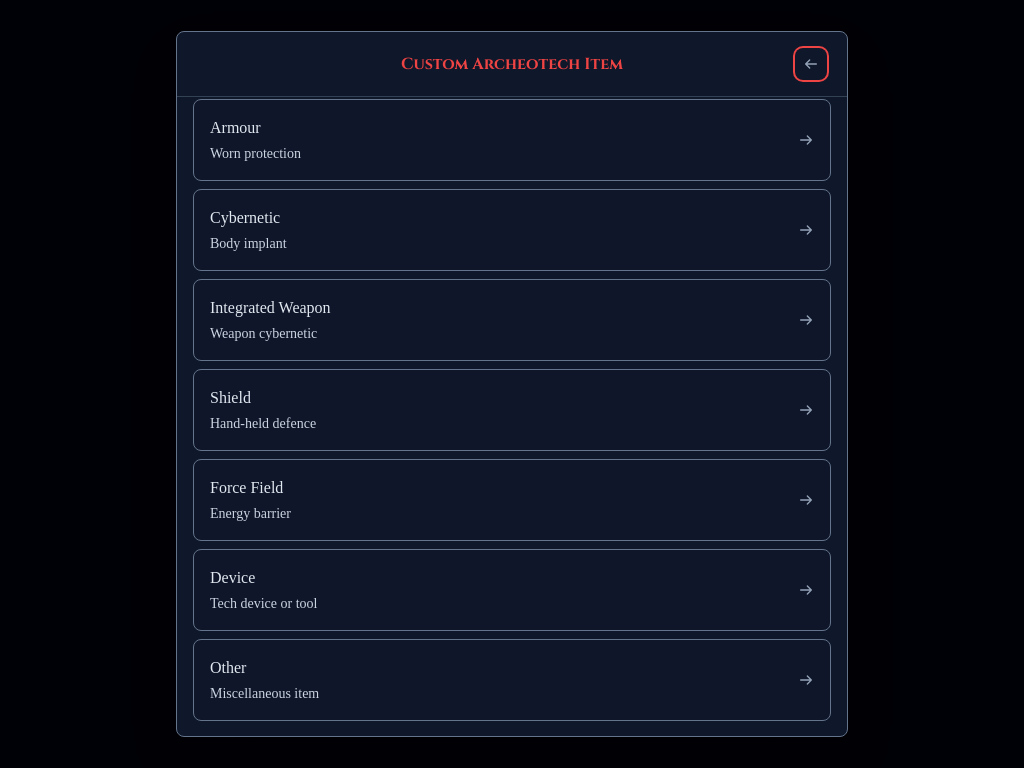
Test case: ArcheotechTab CustomArcheotechForm › disables submit until a name is entered
The image size is (1024, 768).
(page scrolled)
Click the text "Device".
click(233, 578)  # box [210,566,255,590]
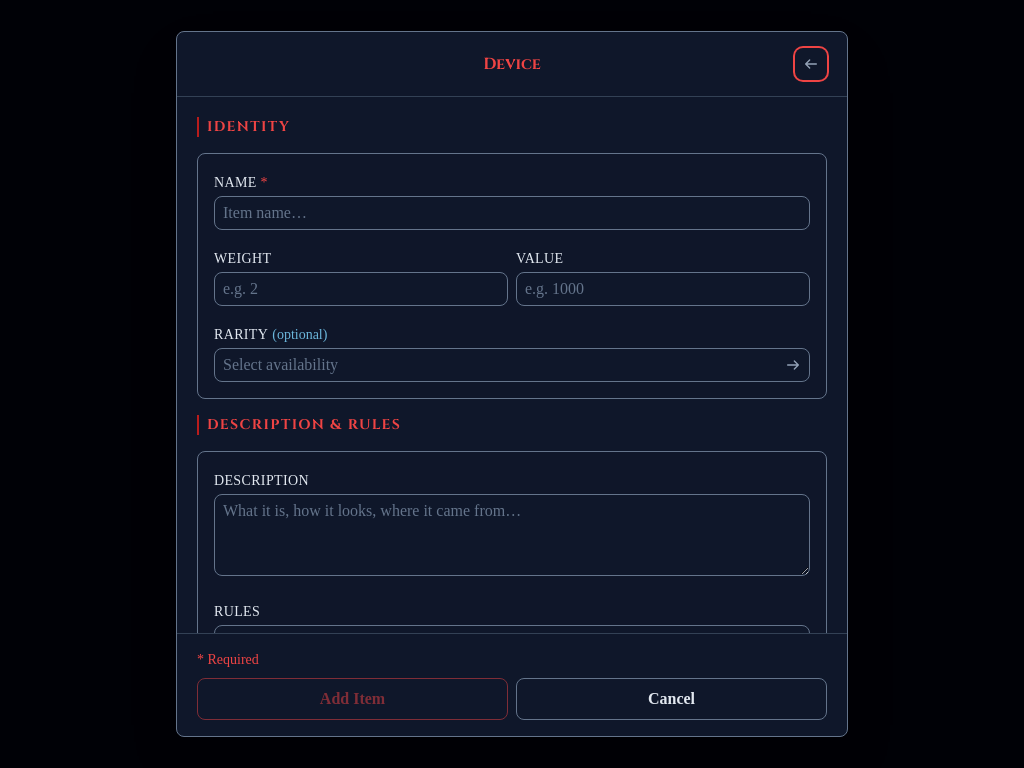
Expected: the button "Add Item" is disabled, [197,678,508,720]
Type "Strange Orb" into the field with placeholder "Item name…".
click(512, 213); type("Strange Orb")  # box [214,196,810,230]
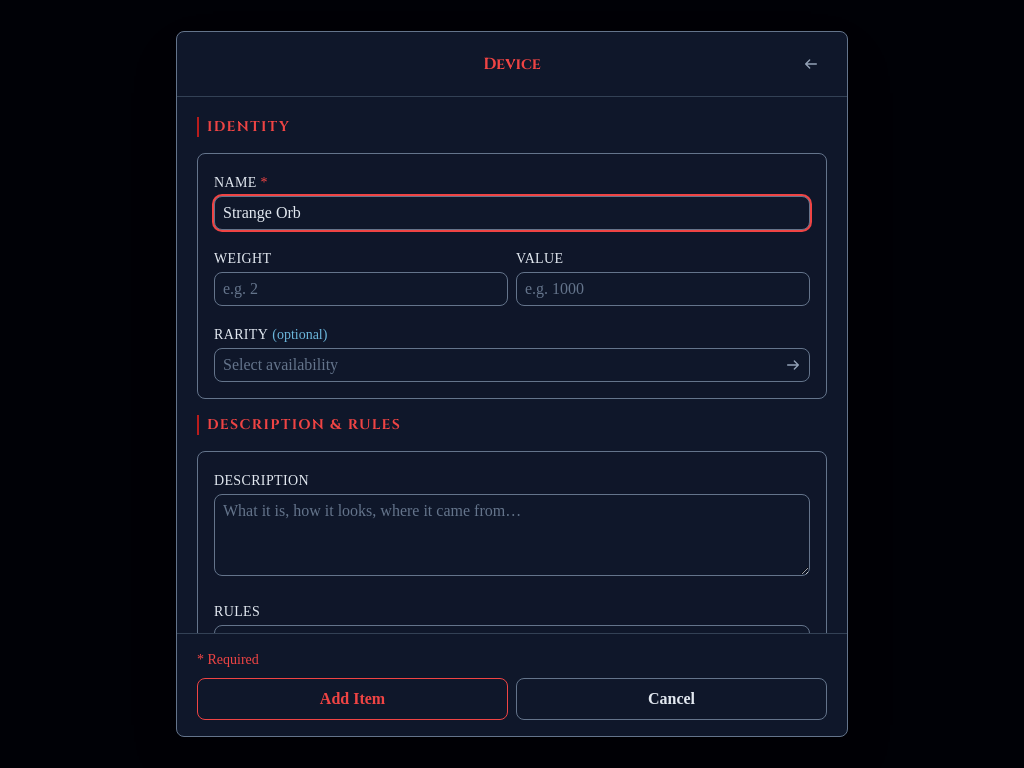
Expected: the button "Add Item" is enabled, [197,678,508,720]
